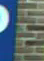Parking: (0, 0, 22, 58)
